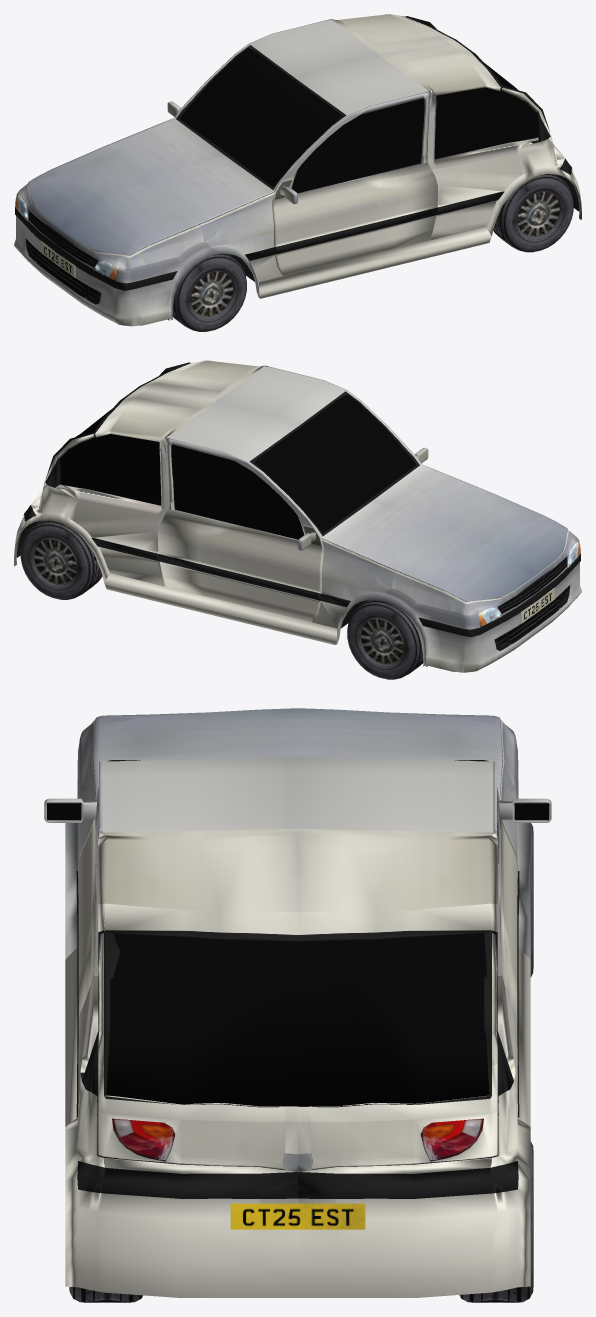
Rendered from SilverCar.fbx.
The picture shows the model from 3 angles, top to bottom: view 1: azimuth 30°, elevation 25°; view 2: azimuth 150°, elevation 25°; view 3: azimuth 270°, elevation 25°; orthographic projection. The views are drawn at different scales.
Parts seen in each view (by area): view 1: MainPart5, Door, FrontWindow, FrontseatWindows, Plane, BackLeftWheel, FrontLeftWheel, CarryBit.001, FrontPlate; view 2: MainPart5, Door, FrontWindow, FrontseatWindows, Plane, BackRightWheel, FrontRightWheel, FrontPlate, CarryBit.001; view 3: MainPart5, BackWindow, Door, BackPlate, Cube, BackRightWheel, BackLeftWheel.
Boxes of the visible parts, x1,y1,x2,y2 form: MainPart5: [14, 14, 581, 326]; Door: [174, 19, 437, 276]; FrontWindow: [179, 48, 340, 186]; FrontseatWindows: [292, 98, 424, 193]; Plane: [434, 87, 537, 159]; BackLeftWheel: [493, 174, 573, 252]; FrontLeftWheel: [172, 253, 246, 331]; CarryBit.001: [168, 163, 578, 320]; FrontPlate: [41, 241, 75, 277]; MainPart5: [14, 360, 581, 672]; Door: [158, 365, 421, 622]; FrontWindow: [255, 394, 416, 533]; FrontseatWindows: [171, 444, 303, 539]; Plane: [60, 434, 161, 505]; BackRightWheel: [20, 520, 102, 599]; FrontRightWheel: [347, 600, 423, 679]; FrontPlate: [520, 588, 554, 623]; CarryBit.001: [17, 509, 427, 666]; MainPart5: [65, 708, 530, 1297]; BackWindow: [104, 929, 491, 1106]; Door: [77, 761, 518, 1058]; BackPlate: [230, 1203, 365, 1229]; Cube: [44, 798, 551, 822]; BackRightWheel: [459, 1141, 533, 1302]; BackLeftWheel: [69, 1287, 142, 1302].
Size of the model in its own units: 716 by 260 by 328.
